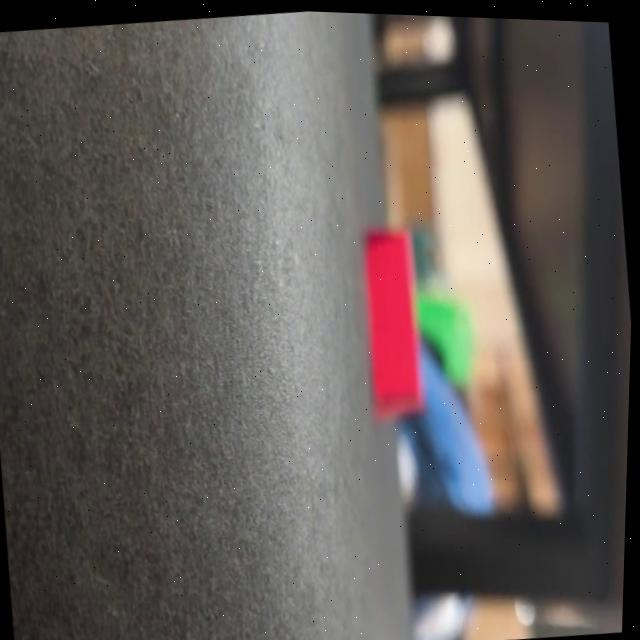red block: (353, 225, 433, 425)
